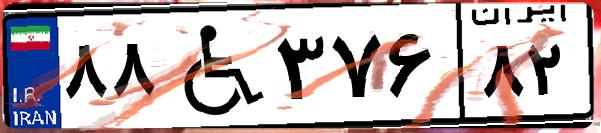2: (525, 38, 570, 115)
3: (270, 28, 330, 110)
6: (385, 28, 445, 110)
7: (330, 28, 385, 110)
8: (57, 26, 110, 100), (475, 38, 525, 113), (110, 28, 158, 98)
ژ (معلولین و جانبازان): (158, 12, 270, 120)
